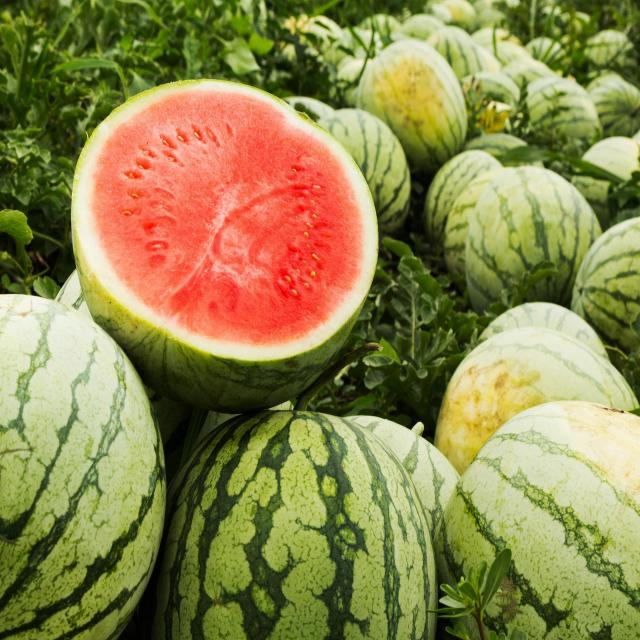watermelon: (68, 80, 380, 409), (172, 399, 446, 640), (0, 288, 165, 640), (448, 394, 639, 640), (437, 325, 637, 475), (467, 163, 598, 313), (358, 30, 468, 166), (315, 101, 410, 231), (575, 212, 640, 382), (434, 144, 504, 241), (523, 72, 600, 150), (571, 131, 640, 216), (583, 70, 640, 141), (462, 67, 521, 134), (430, 18, 489, 80)
